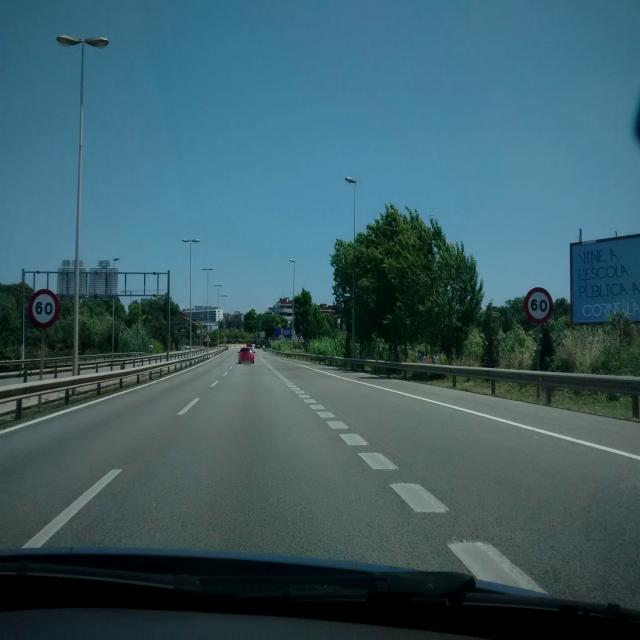car: (237, 345, 255, 365)
